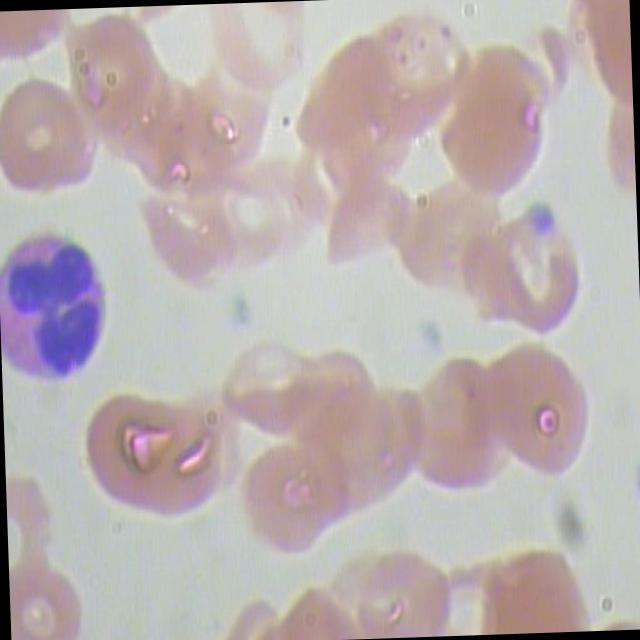Platelets: (527, 200, 554, 237)
RBC: (487, 341, 607, 494), (480, 194, 600, 346), (350, 10, 472, 154), (399, 351, 511, 496), (0, 68, 102, 222), (438, 79, 544, 208), (232, 441, 338, 570), (175, 56, 282, 177), (78, 392, 184, 512), (316, 171, 422, 277), (136, 190, 242, 296), (220, 341, 326, 447), (347, 535, 452, 639), (221, 171, 299, 270), (8, 563, 87, 640)
WBC: (0, 227, 122, 387)
